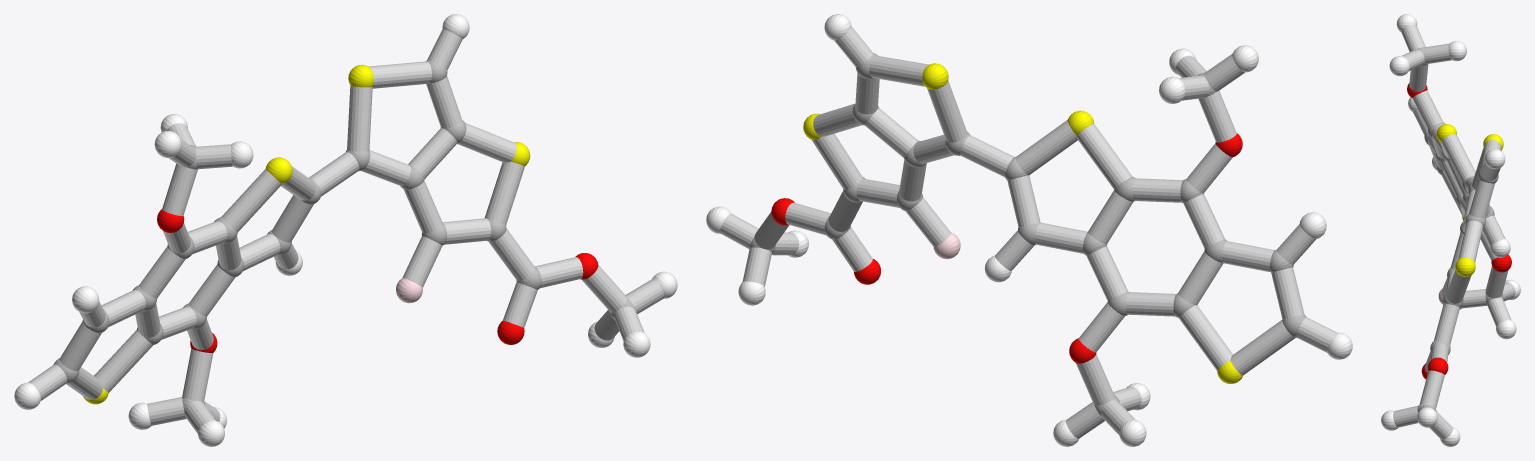
Rendered from color.glb.
3 views of the same model, side by side, from view 1: azimuth 30°, elevation 25°; view 2: azimuth 150°, elevation 25°; view 3: azimuth 270°, elevation 25° (orthographic). The views are drawn at different scales.
Visible parts, largest first — view 1: grp15205, grp8689, grp1, grp13395, grp7241; view 2: grp15205, grp8689, grp1, grp7241, grp13395; view 3: grp15205, grp8689, grp1, grp7241, grp13395.
Part boxes in pixels (x1,y1,x2,y2): grp15205: (28,29,664,433); grp8689: (14,14,677,446); grp1: (53,60,634,410); grp13395: (157,209,598,352); grp7241: (83,64,530,404); grp15205: (720,27,1336,438); grp8689: (706,14,1352,446); grp1: (750,53,1306,415); grp7241: (803,63,1243,383); grp13395: (771,133,1242,363); grp15205: (1393,24,1515,439); grp8689: (1381,14,1520,446); grp1: (1416,47,1502,411); grp7241: (1436,124,1503,276); grp13395: (1407,83,1511,379).
Size of the model in its own units: 16.49 by 9.12 by 4.09.
